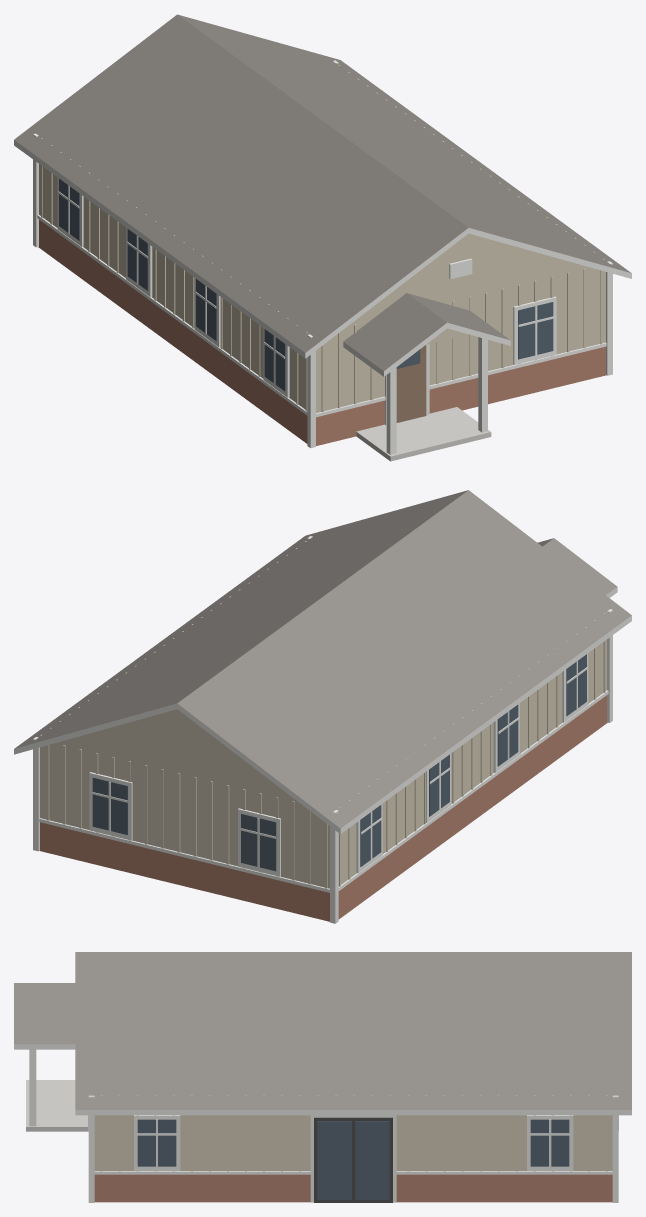
The model's file is almond-craftsman.glb.
3 renders of one model, top to bottom at view 1: azimuth 30°, elevation 25°; view 2: azimuth 150°, elevation 25°; view 3: azimuth 270°, elevation 25°, orthographic. The views are drawn at different scales.
Parts seen in each view (by area): view 1: The Almond (craftsman); view 2: The Almond (craftsman); view 3: The Almond (craftsman).
Part boxes in pixels (x1,y1,x2,y2): The Almond (craftsman): [14, 14, 631, 461]; The Almond (craftsman): [14, 490, 631, 923]; The Almond (craftsman): [14, 952, 631, 1202].
Size of the model in its own units: 8.38 by 4.65 by 14.38.
